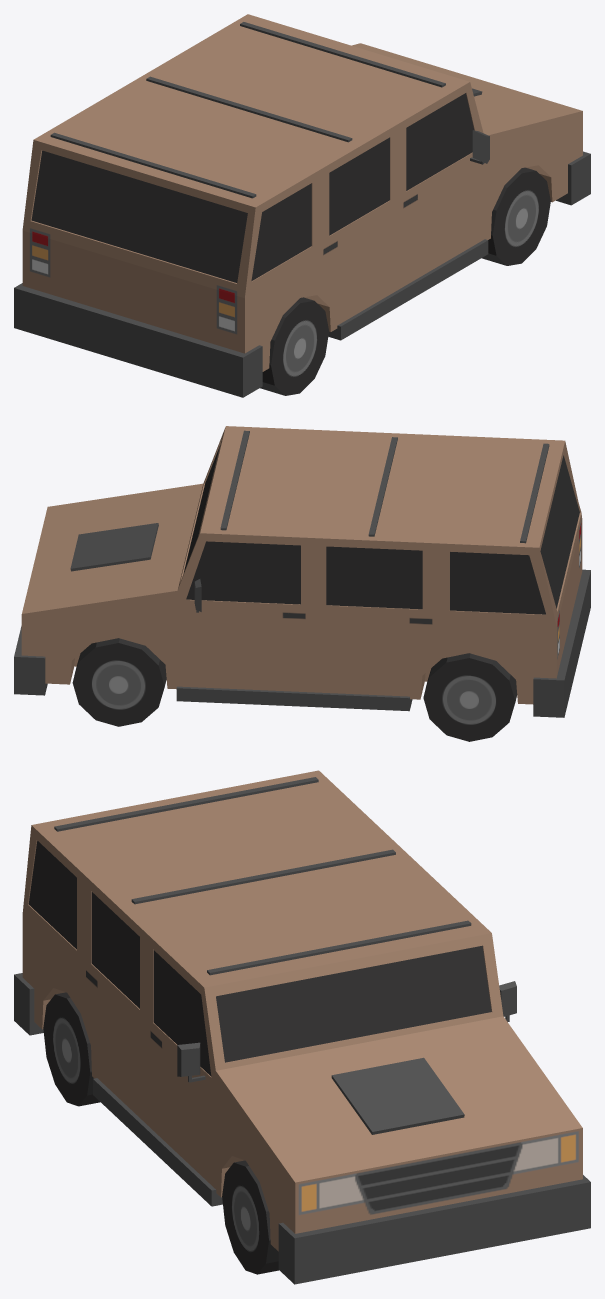
File: Car7_suv2.glb
3 views of the same model, one above another, from view 1: azimuth 30°, elevation 25°; view 2: azimuth 150°, elevation 25°; view 3: azimuth 270°, elevation 25° (orthographic). The views are drawn at different scales.
Parts seen in each view (by area): view 1: Vehicle_SUV_color02.005; view 2: Vehicle_SUV_color02.005; view 3: Vehicle_SUV_color02.005.
Part boxes in pixels (<box>): Vehicle_SUV_color02.005: <box>14,14,590,397</box>; Vehicle_SUV_color02.005: <box>14,426,590,741</box>; Vehicle_SUV_color02.005: <box>14,770,590,1284</box>.
Bounding box in the file's own units: 1.59 × 0.5687 × 1.21.
Materials: 1 (1 with a texture image).
